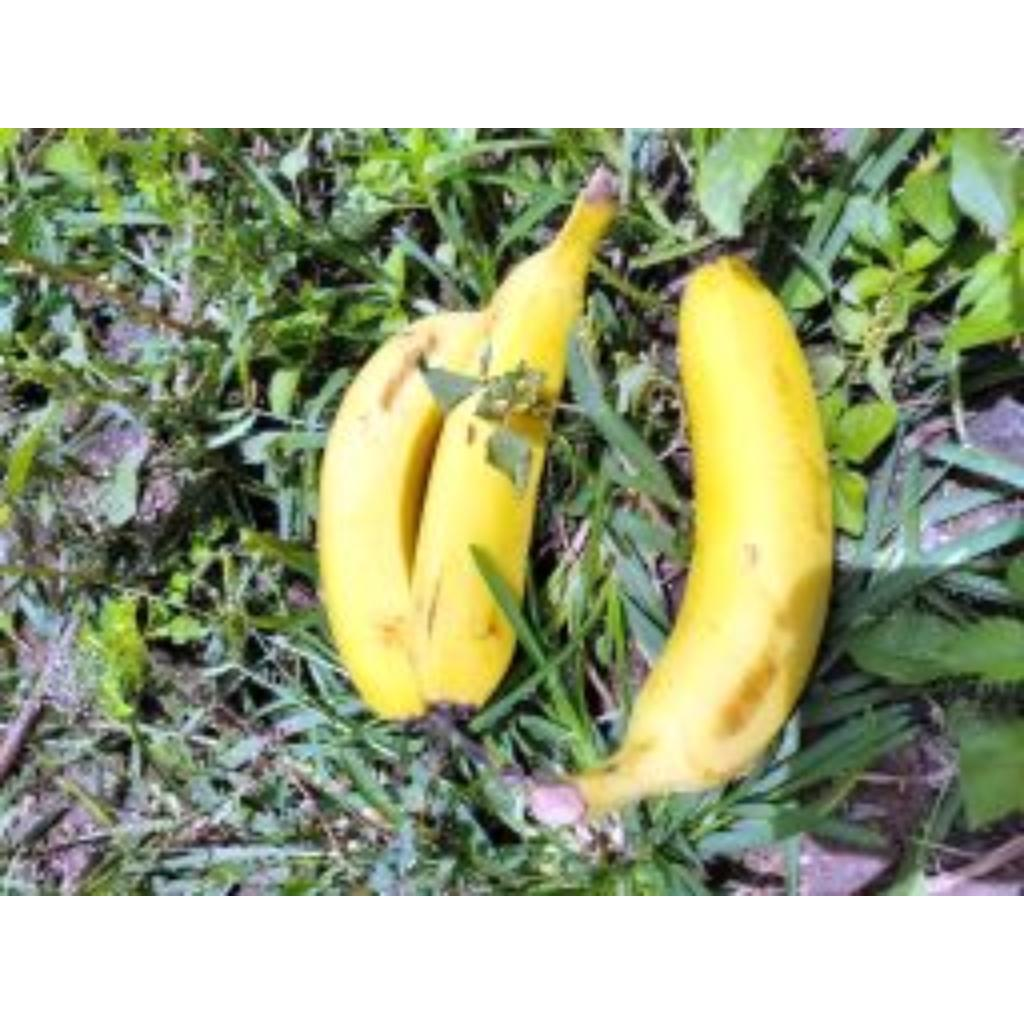banana: (574, 258, 830, 816), (414, 172, 616, 706)
